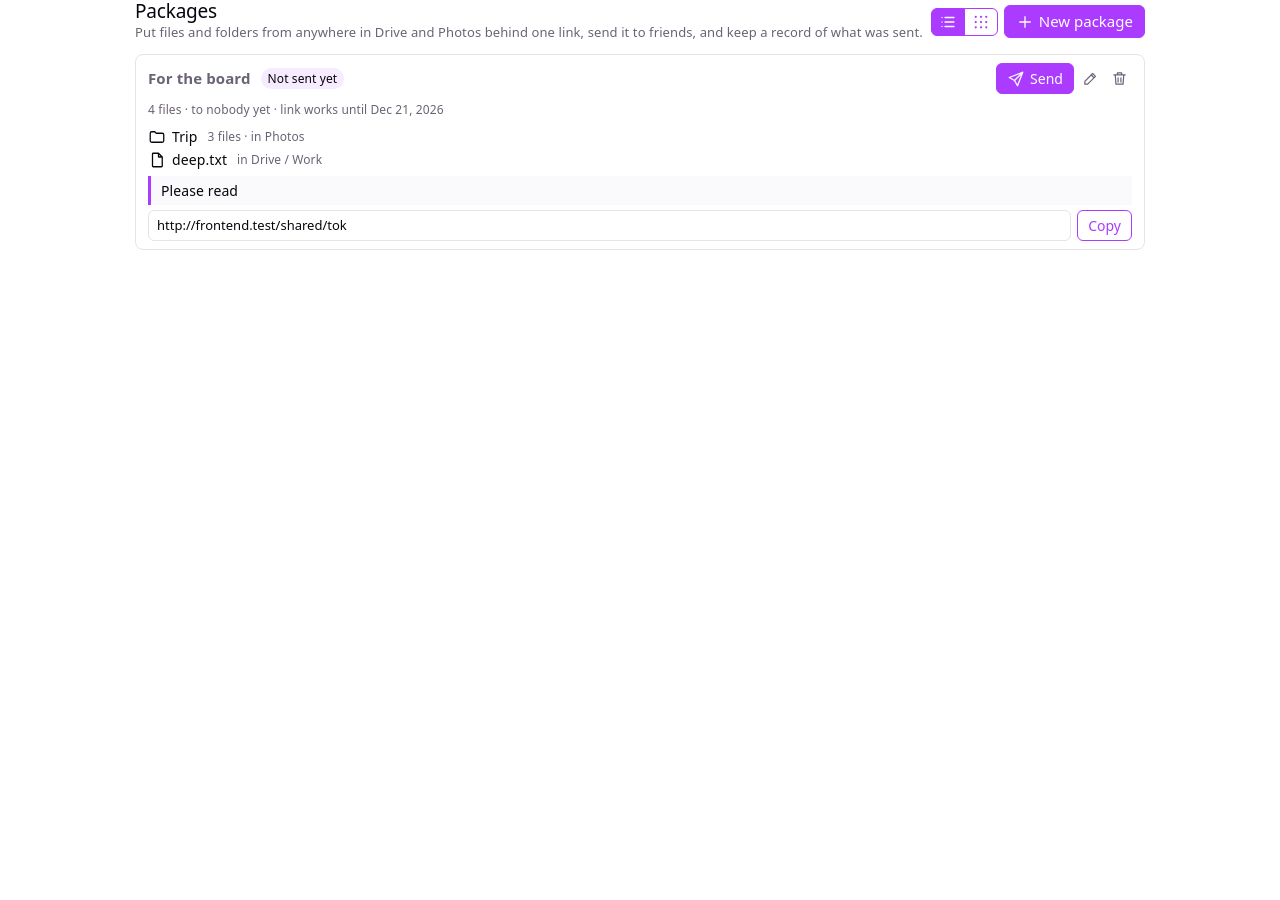
Test: Packages › will not send a package that has no friends
This screenshot has width=1280, height=900.
What coordinates should you click on to do the following:
click the button with aria-label "Send For the board"
I would click on:
 (1035, 79)
Its box is [996, 63, 1074, 94].
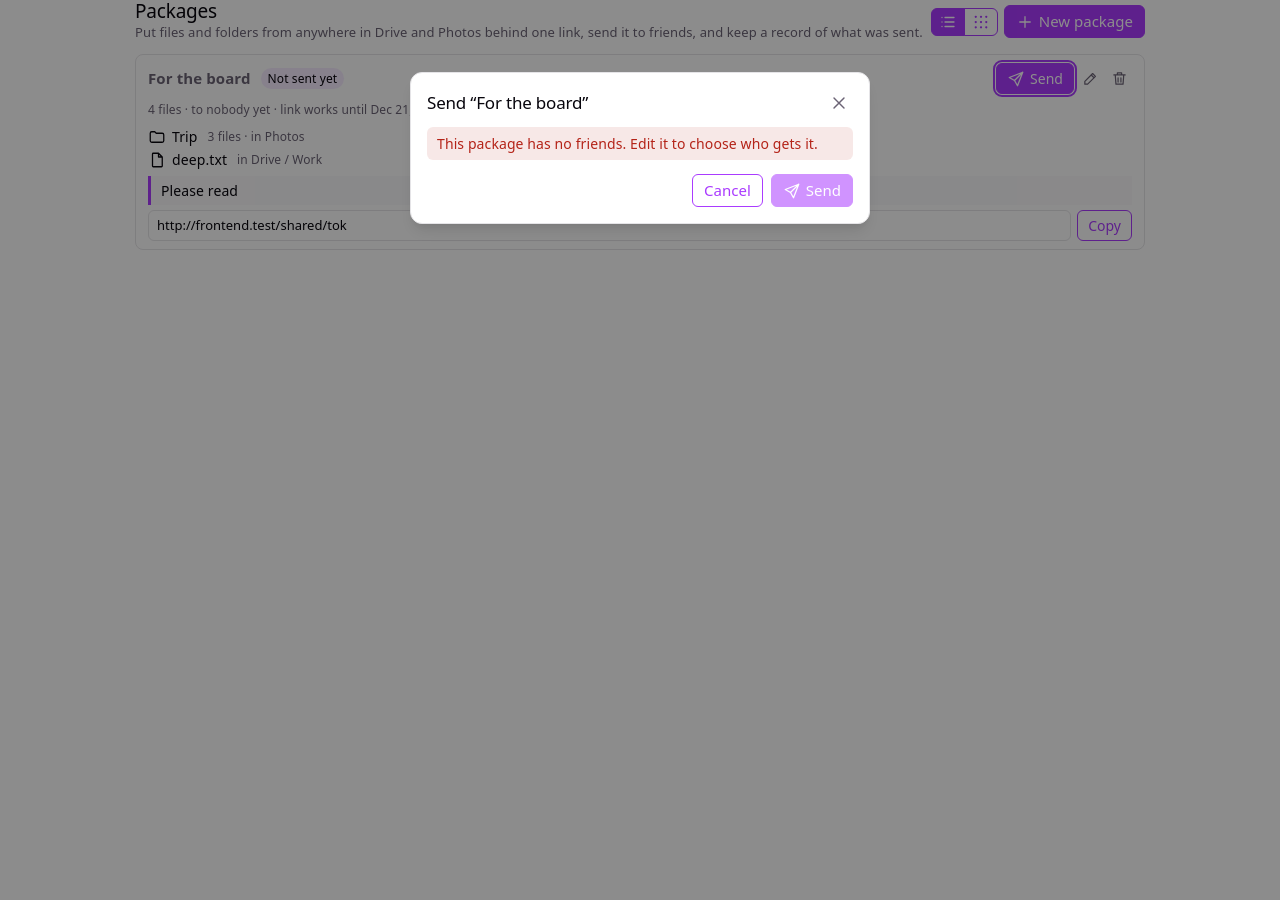
Result: the message shows "This package has no friends." at [437, 134, 818, 153]
Result: the button "Send" is disabled at [771, 174, 853, 207]
